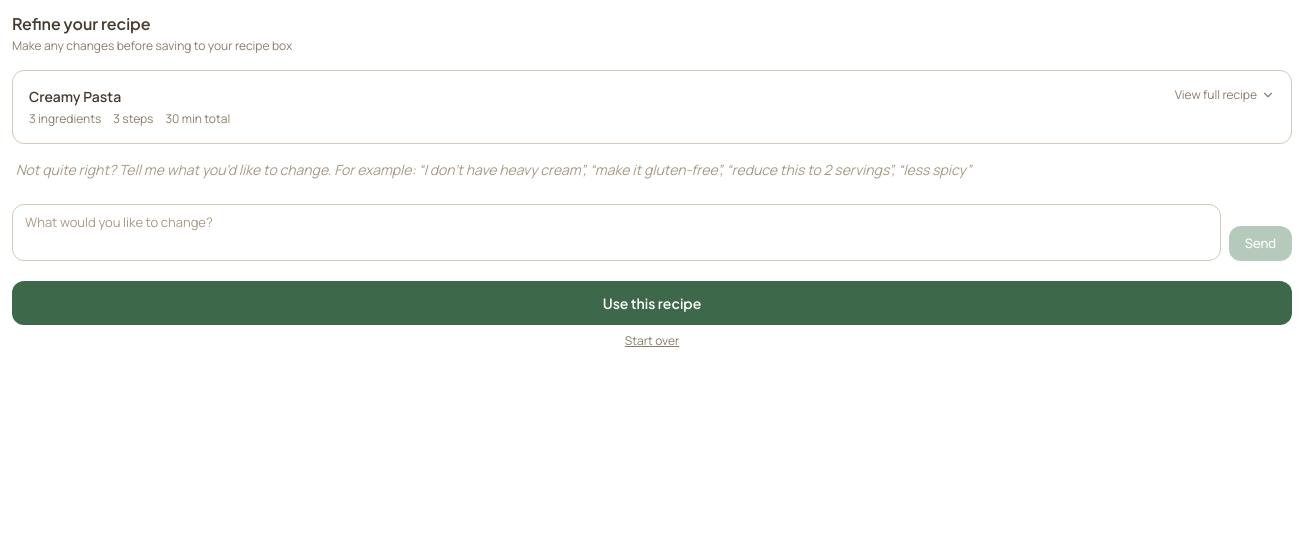
T14 - LLM failure appends error message without losing conversation › appends error message to chat on failure
// First message succeeds
Type "make it dairy-free" into the text box with placeholder "What would you like to change?" at (616, 232), box x1=12 y1=204 x2=1221 y2=261
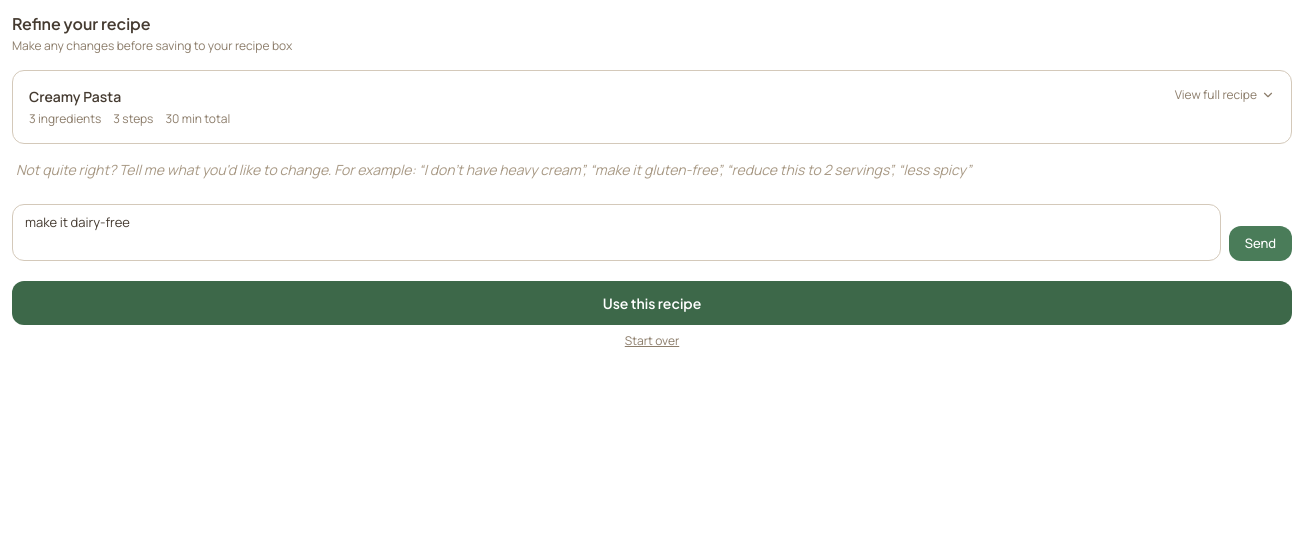
Click the button "Send" at (1260, 243), box x1=1229 y1=226 x2=1292 y2=261
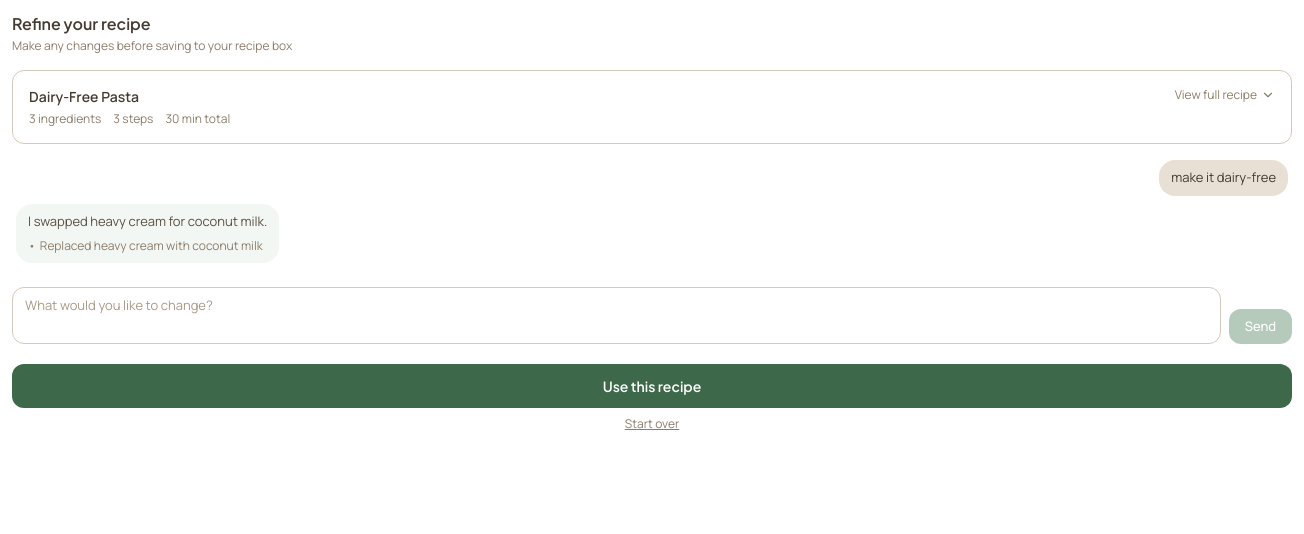
Expected: the text "I swapped heavy cream for coconut milk." is shown, x1=28 y1=212 x2=267 y2=231
// Second message fails
Type "now make it spicy" into the text box with placeholder "What would you like to change?" at (616, 316), box x1=12 y1=287 x2=1221 y2=344
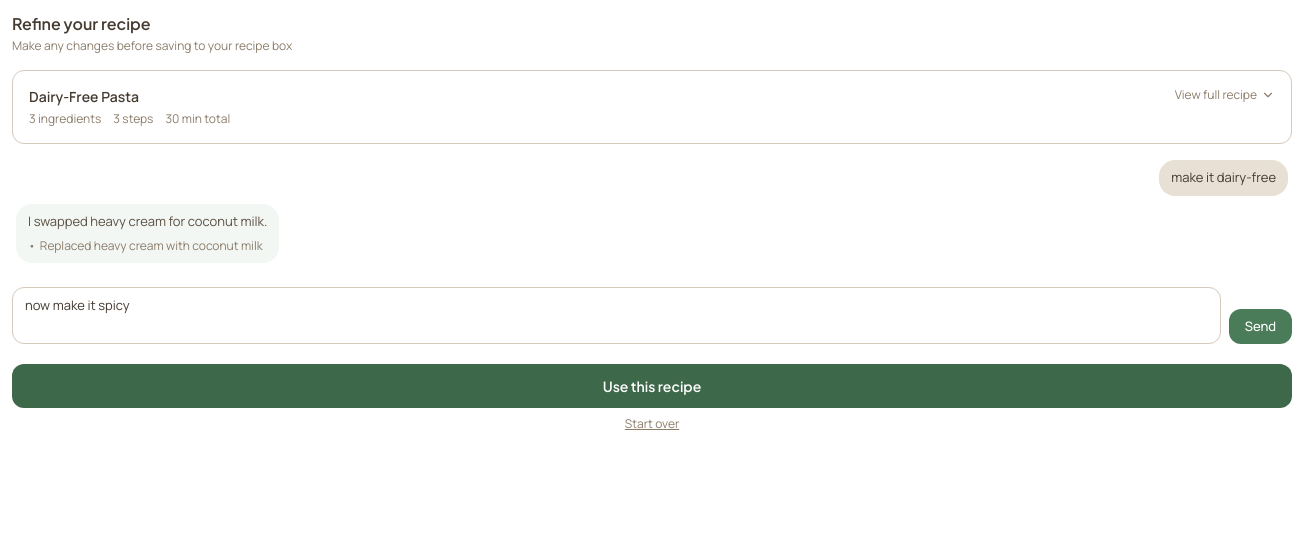
Click the button "Send" at (1260, 326), box x1=1229 y1=308 x2=1292 y2=344
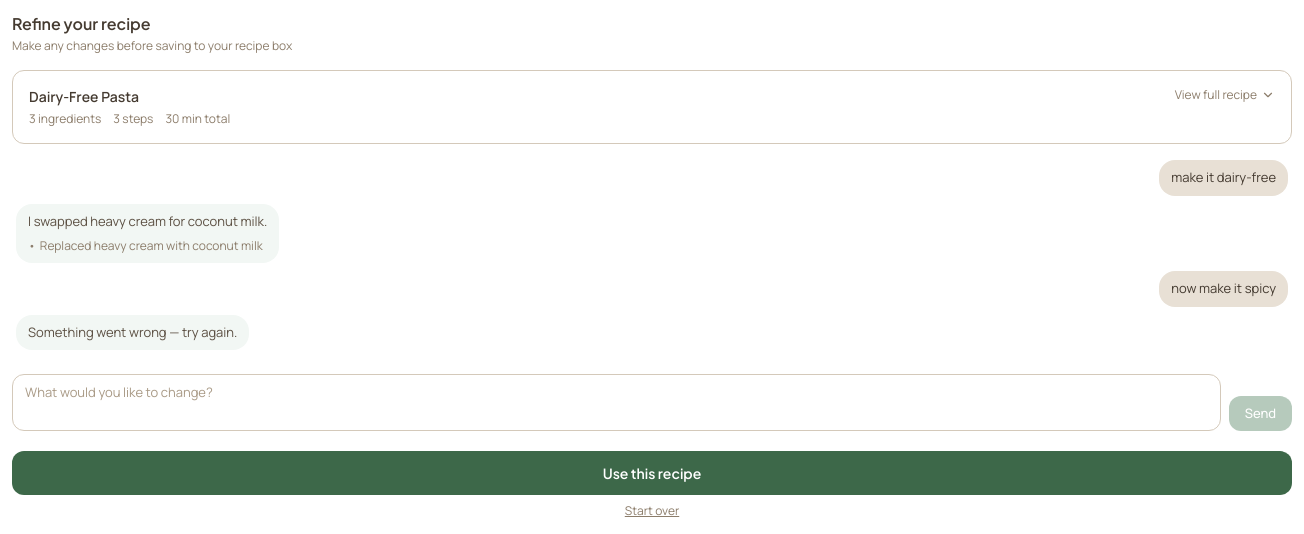
Expected: the text "make it dairy-free" is shown, x1=1171 y1=168 x2=1276 y2=188
Expected: the text "I swapped heavy cream for coconut milk." is shown, x1=28 y1=212 x2=267 y2=231
Expected: the text "Something went wrong — try again." is shown, x1=28 y1=322 x2=237 y2=342
